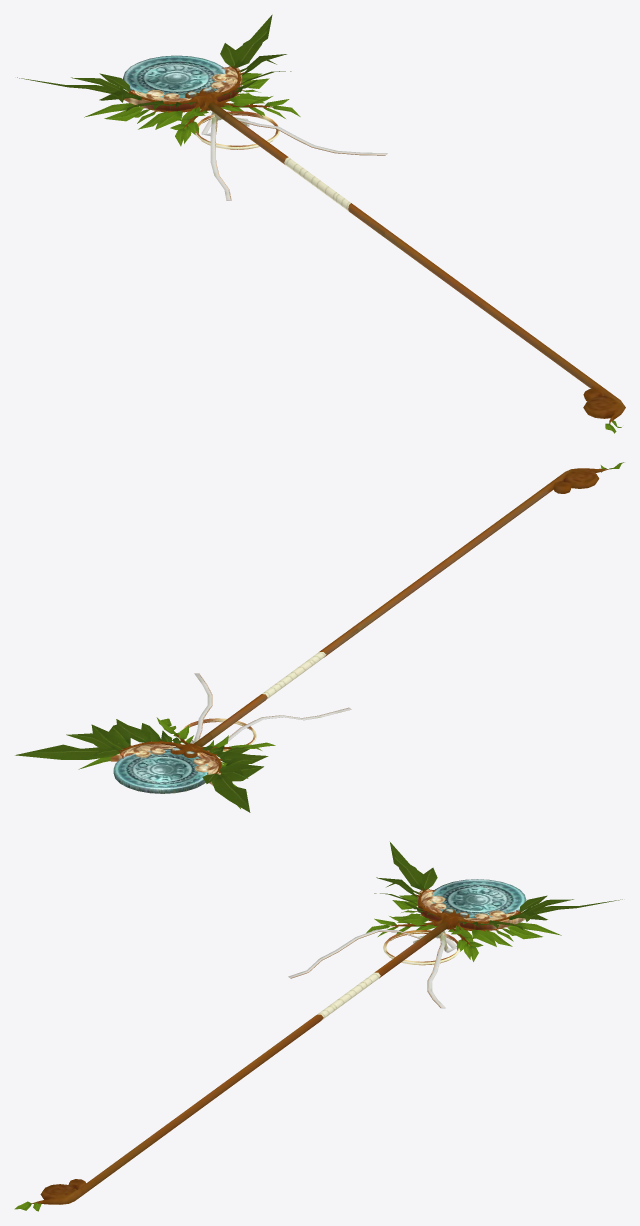
The model's file is change_himiko_weapon.glb.
3 renders of one model, top to bottom at view 1: azimuth 30°, elevation 25°; view 2: azimuth 150°, elevation 25°; view 3: azimuth 330°, elevation 25°, orthographic. The views are drawn at different scales.
Size of the model in its own units: 0.5581 by 0.0804 by 1.89.
Materials: 1 (1 with a texture image).
